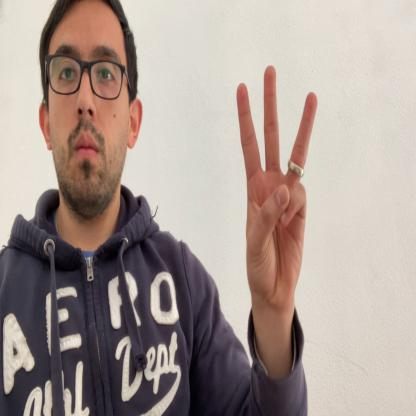W: (237, 62, 318, 313)
